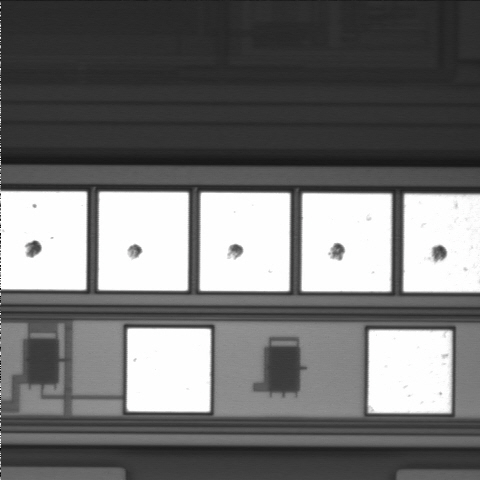pad: (98, 192, 188, 291), (200, 193, 290, 291), (302, 193, 391, 292), (127, 328, 211, 412), (368, 330, 452, 413)
